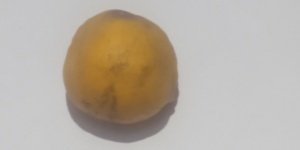BAD: (63, 10, 181, 128)
